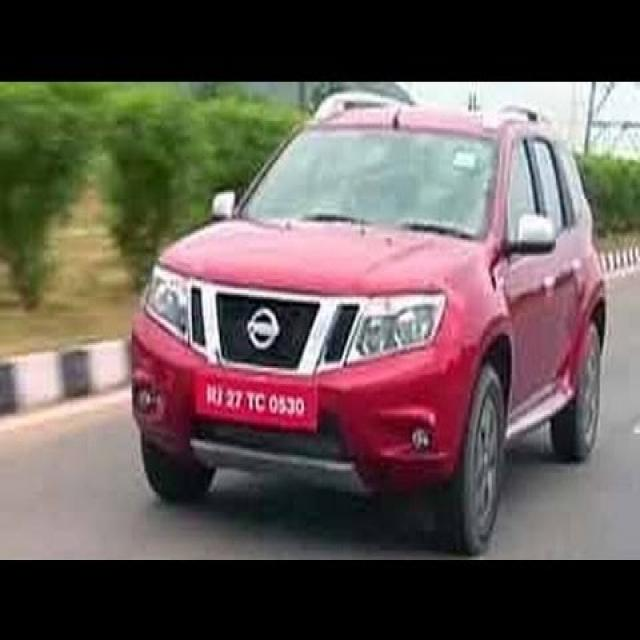license-plate: (194, 370, 318, 434)
